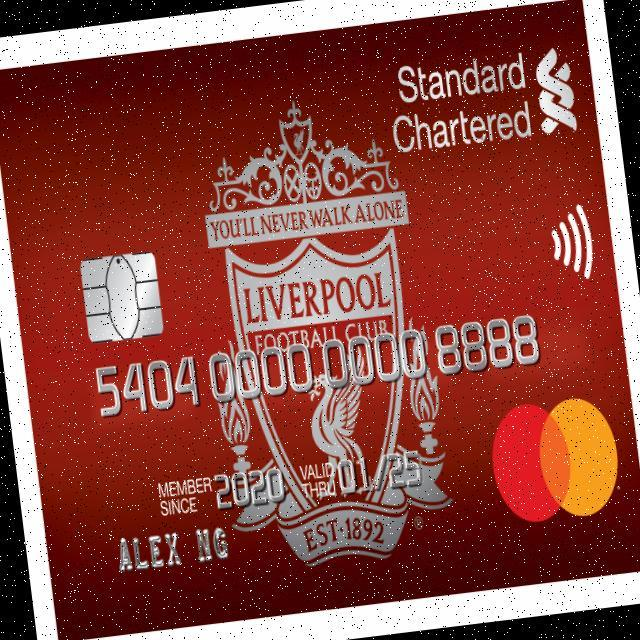Standard Chartered: (385, 43, 580, 156)
